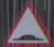Speed Breaker ahead: (1, 1, 51, 46)
